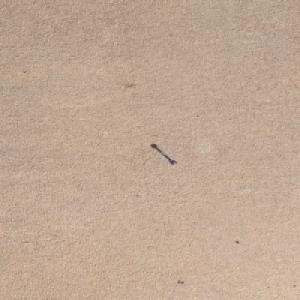Wrench: (149, 143, 176, 164)
